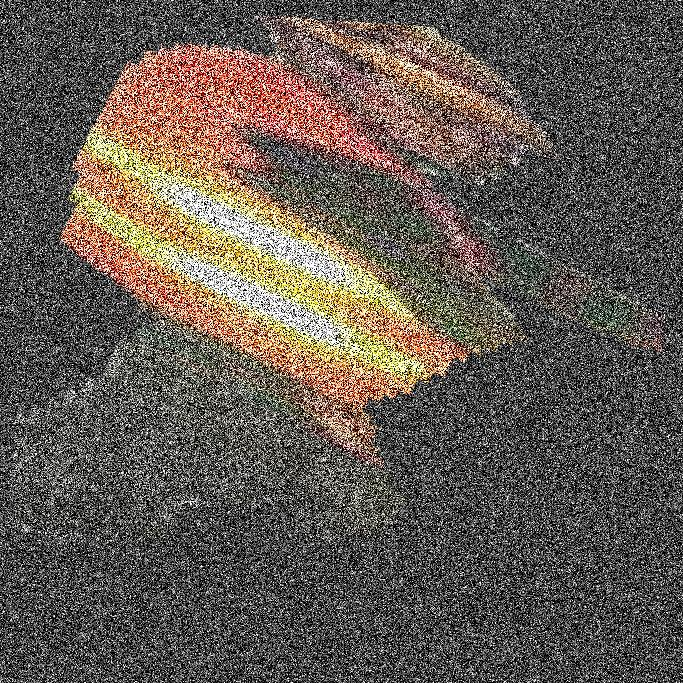Pessoa: (94, 0, 415, 682)
